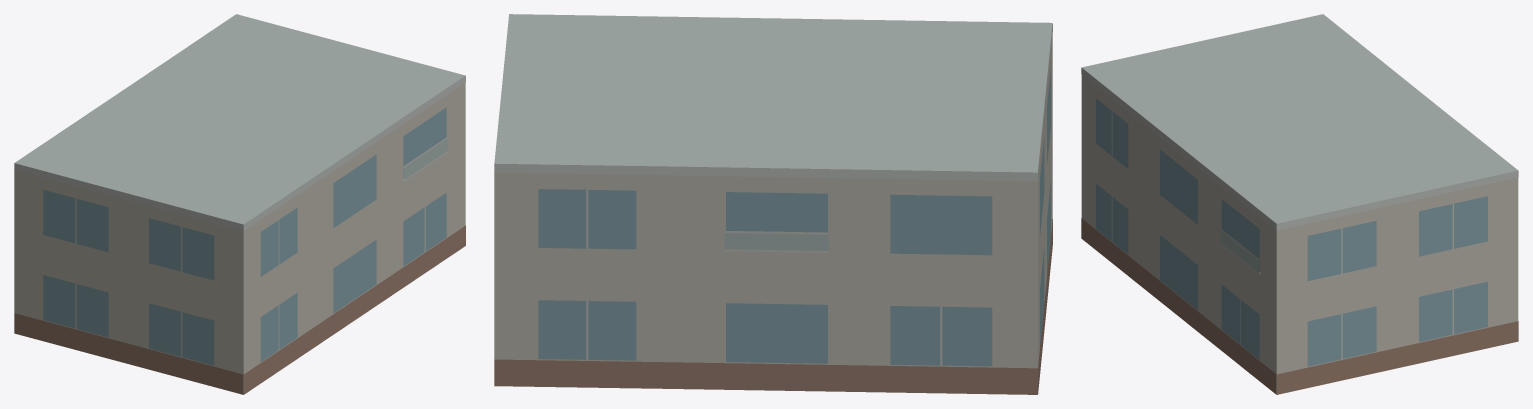
Rendered from survey-upis-32862241.glb.
3 views of the same model, side by side, from view 1: azimuth 30°, elevation 25°; view 2: azimuth 150°, elevation 25°; view 3: azimuth 270°, elevation 25° (orthographic). The views are drawn at different scales.
Parts seen in each view (by area): view 1: survey-upis-32862241.tmp; view 2: survey-upis-32862241.tmp; view 3: survey-upis-32862241.tmp.
Boxes of the visible parts, box(x1,y1,x2,y2) form: survey-upis-32862241.tmp: box(14, 14, 465, 394); survey-upis-32862241.tmp: box(494, 14, 1052, 394); survey-upis-32862241.tmp: box(1081, 14, 1518, 394).
Bounding box in the file's own units: 16.06 × 6.1 × 14.13.
